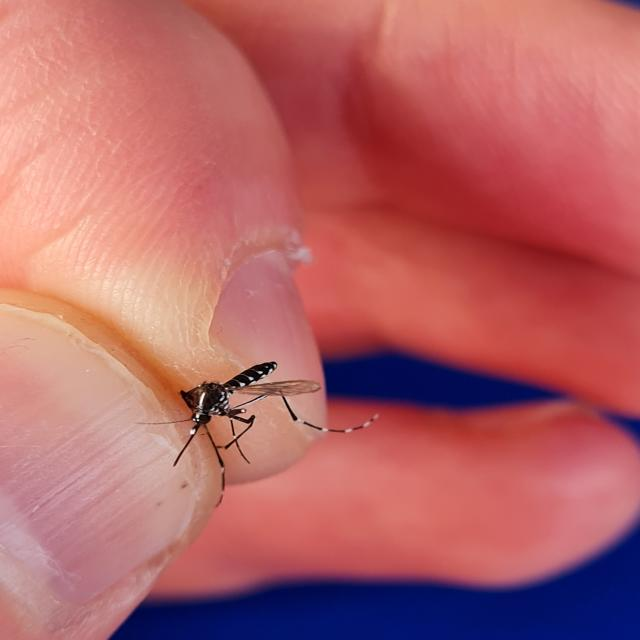albopictus: (146, 346, 376, 510)
